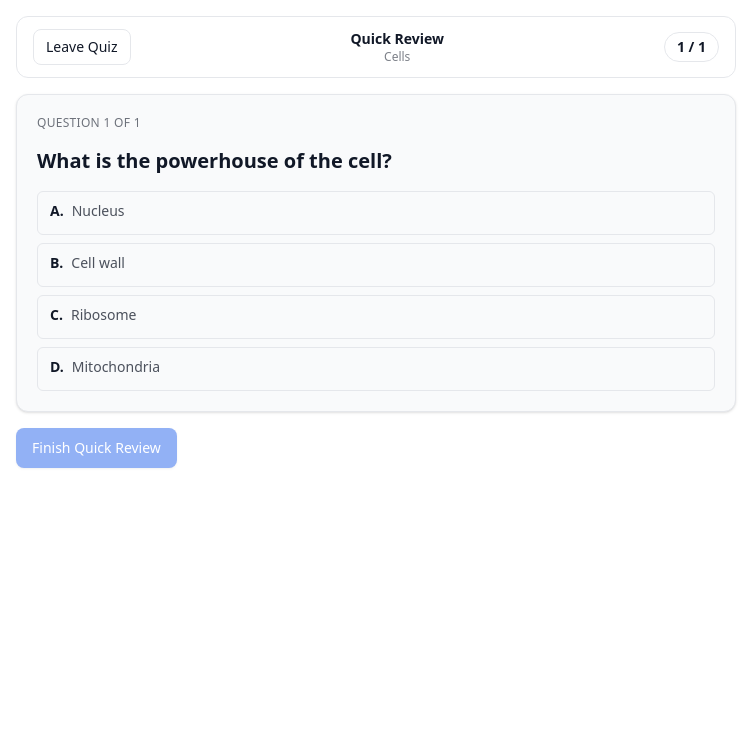
Test case: QuickReviewPage post-quiz UX › keeps the standard header for a perfect first quiz
The image size is (753, 744).
Click the button "D.Mitochondria": x=116, y=366 [37,347,715,391]
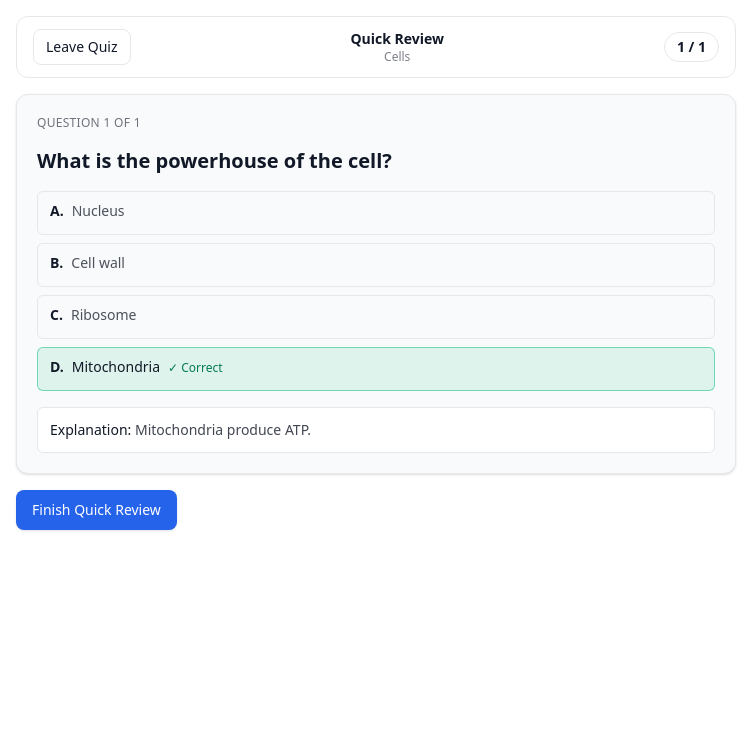
Result: the button "Finish Quick Review" is enabled
Click the button "Finish Quick Review": x=96, y=510 [16,490,177,530]
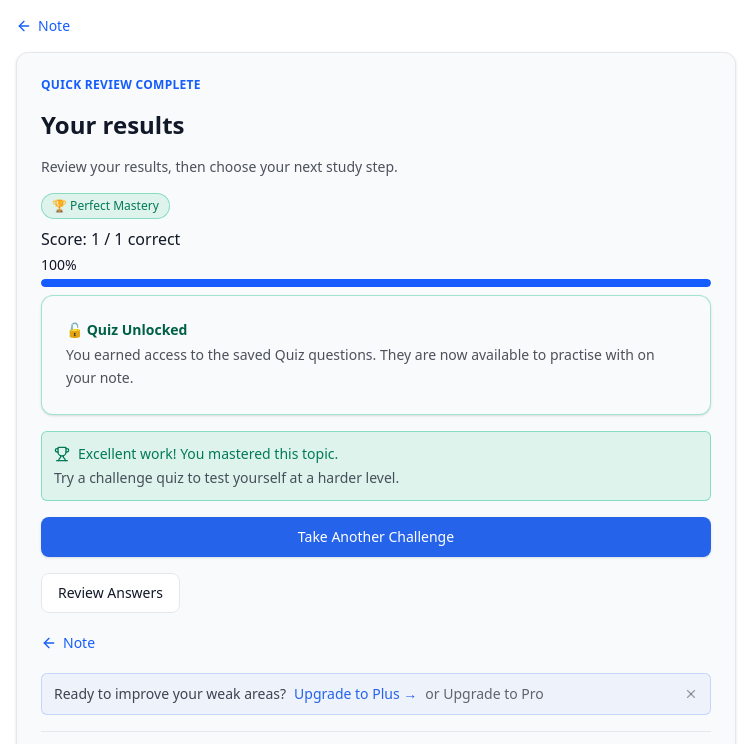
Result: the heading "Your results" is shown at [41,108,184,141]
